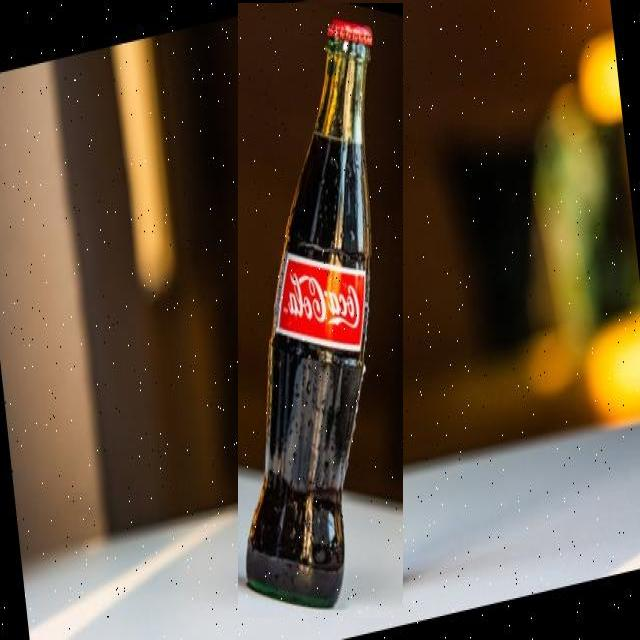coca-cola: (238, 3, 403, 618)
